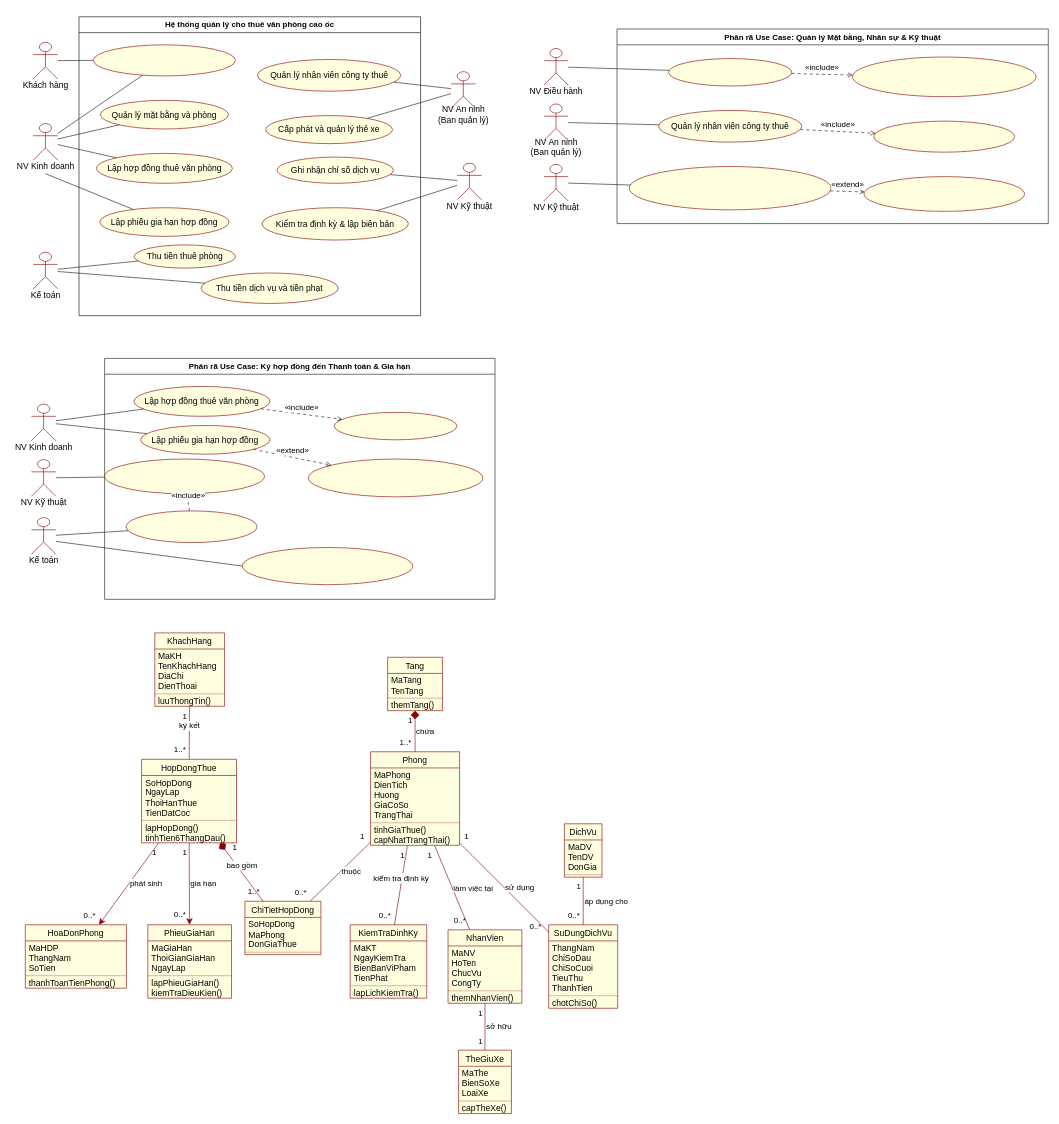
This 1059x1124 diagram has some shape labels left out. Here are the shapes that lost their labels. From the top down, the centre of each, then its label:
At point (164, 60): "Xem thông tin mặt bằng và giá".
At point (730, 72): "Quản lý mặt bằng & phòng".
At point (944, 76): "Thiết lập đơn giá theo độ cao & diện tích".
At point (944, 136): "Cấp phát thẻ giữ xe định danh".
At point (730, 188): "Kiểm tra định kỳ cấu trúc phòng (1 năm/lần)".
At point (943, 193): "Lập biên bản xử lý vi phạm kết cấu".
At point (395, 426): "Thu tiền thuê 6 tháng đầu".
At point (184, 476): "Ghi nhận chỉ số dịch vụ cuối tháng".
At point (395, 477): "Kiểm tra điều kiện gia hạn (Không nợ tiền phòng & dịch vụ)".
At point (191, 526): "Thu tiền dịch vụ (điện, nước, internet)".
At point (327, 566): "Thu tiền thuê phòng hàng tháng (từ tháng thứ 7)".
